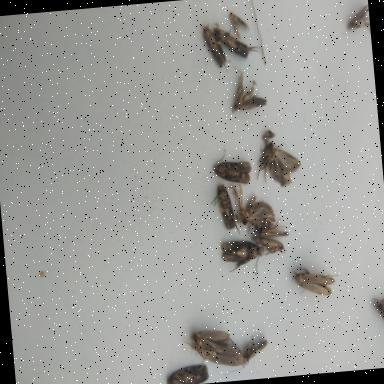pbw: (254, 139, 303, 190), (180, 336, 246, 371), (218, 336, 274, 376), (213, 20, 261, 62), (290, 260, 340, 300), (208, 182, 241, 242), (212, 144, 255, 188), (220, 238, 264, 280), (198, 22, 232, 74), (229, 68, 268, 112), (242, 195, 276, 226), (225, 3, 254, 38), (250, 236, 288, 262), (166, 364, 210, 384), (192, 326, 230, 346), (256, 216, 290, 238)
